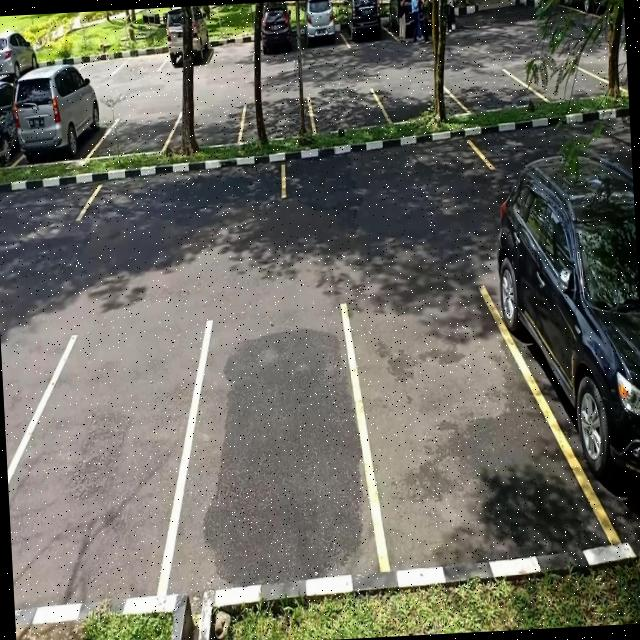empty: (174, 304, 372, 584), (1, 326, 190, 606), (356, 289, 532, 572), (280, 138, 484, 208), (79, 162, 288, 219), (169, 103, 246, 149), (452, 69, 530, 112), (100, 112, 174, 157), (310, 88, 385, 132), (241, 98, 315, 140), (382, 81, 454, 124), (209, 29, 257, 72), (112, 42, 166, 78)
occupied: (509, 182, 640, 541), (12, 81, 104, 171), (164, 22, 211, 76), (0, 89, 17, 172)
